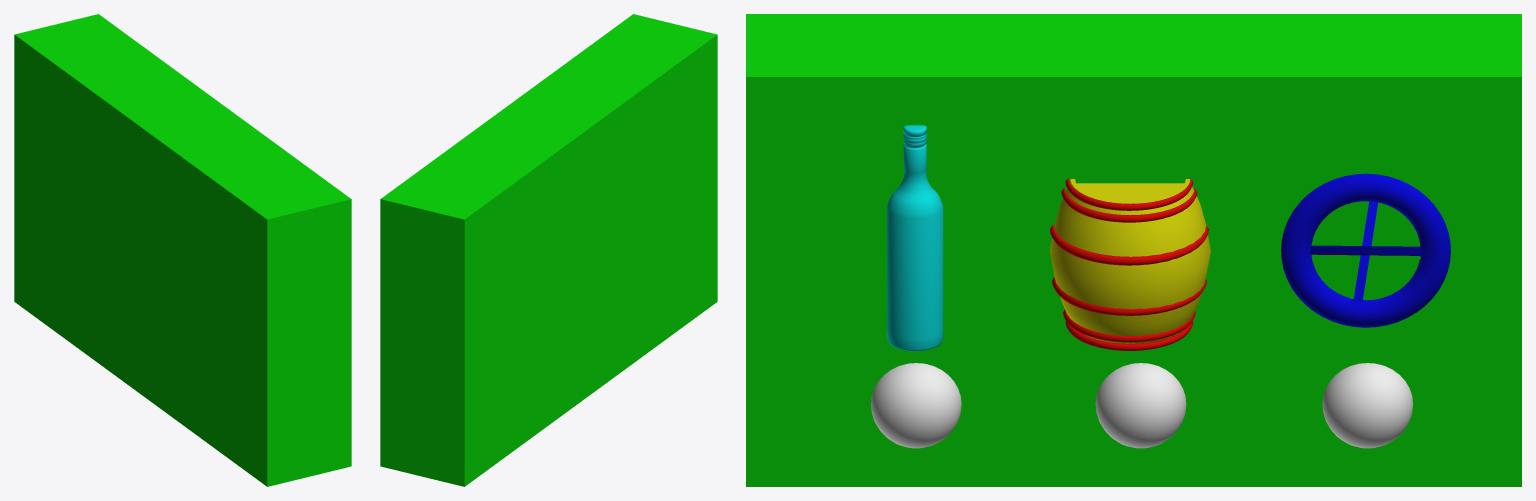
The model's file is LED panel3.fbx.
The picture shows the model from 3 angles, left to right: view 1: azimuth 30°, elevation 25°; view 2: azimuth 150°, elevation 25°; view 3: azimuth 270°, elevation 25°; orthographic projection. The views are drawn at different scales.
Visible parts, largest first — view 1: Torus.006; view 2: Torus.006; view 3: Torus.006, Sphere.002, Sphere.001, Sphere.
Boxes of the visible parts, box(x1,y1,x2,y2) form: Torus.006: box(14, 14, 351, 486); Torus.006: box(380, 14, 717, 486); Torus.006: box(746, 14, 1521, 486); Sphere.002: box(1322, 363, 1413, 448); Sphere.001: box(1095, 363, 1186, 448); Sphere: box(871, 363, 961, 448).
Bounding box in the file's own units: 59.03 × 117 × 200.
